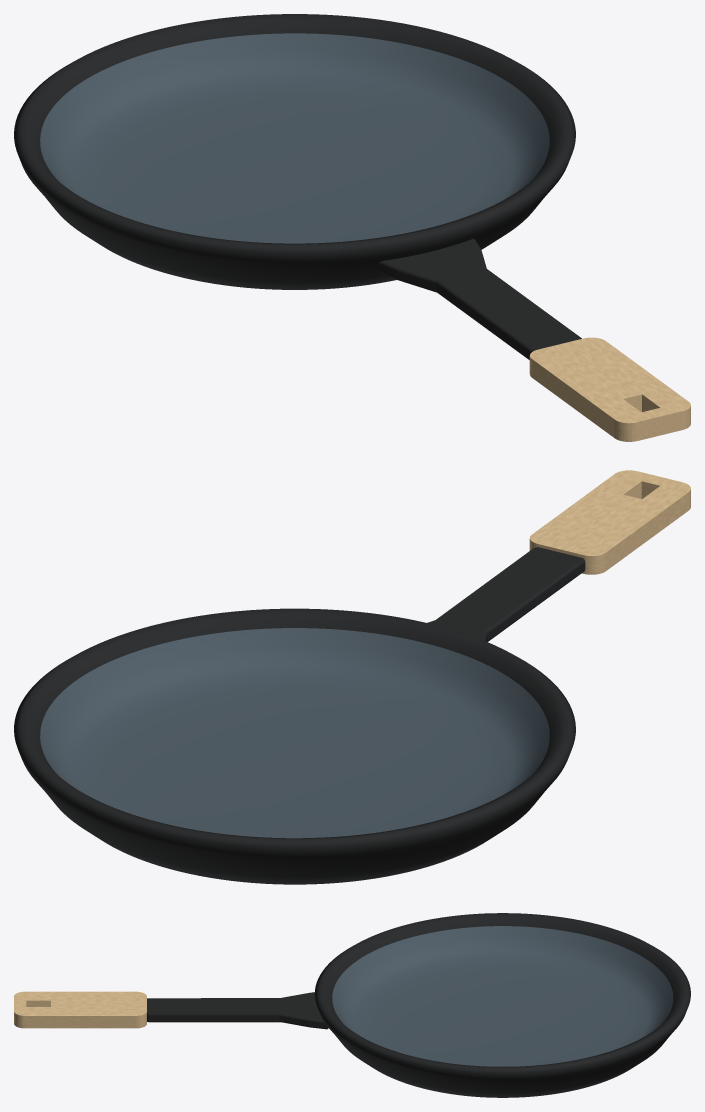
3 views of the same model, one above another, from view 1: azimuth 30°, elevation 25°; view 2: azimuth 150°, elevation 25°; view 3: azimuth 270°, elevation 25° (orthographic). The views are drawn at different scales.
Parts seen in each view (by area): view 1: pan_body, wooden_grip_section, flat_handle_core; view 2: pan_body, wooden_grip_section, flat_handle_core; view 3: pan_body, wooden_grip_section, flat_handle_core.
Boxes of the visible parts, x1,y1,x2,y2 form: pan_body: [14, 14, 575, 289]; wooden_grip_section: [529, 337, 690, 441]; flat_handle_core: [377, 238, 581, 359]; pan_body: [14, 608, 575, 884]; wooden_grip_section: [529, 470, 690, 574]; flat_handle_core: [427, 547, 585, 641]; pan_body: [314, 913, 690, 1097]; wooden_grip_section: [14, 991, 146, 1028]; flat_handle_core: [147, 992, 328, 1029].
Size of the model in its own units: 6.45 by 0.905 by 11.6.
Materials: 3 (1 with a texture image).
